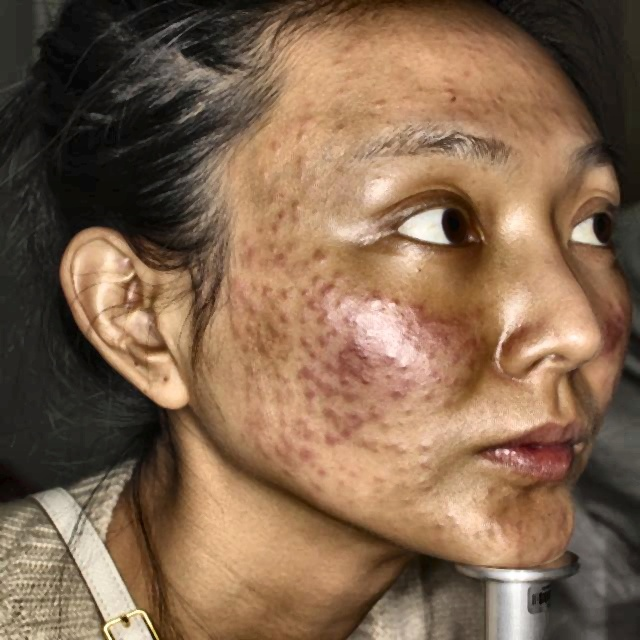nodule: (281, 113, 314, 153), (265, 204, 300, 241), (408, 295, 438, 337), (339, 358, 371, 392), (376, 371, 412, 401), (441, 80, 470, 116), (257, 246, 289, 276), (302, 364, 332, 392), (302, 300, 328, 332), (357, 431, 386, 458), (294, 332, 324, 357), (278, 435, 300, 469), (295, 440, 322, 466), (388, 439, 416, 463), (227, 295, 254, 316), (308, 478, 336, 498), (318, 330, 340, 354), (361, 328, 388, 347), (314, 461, 337, 483), (447, 372, 471, 393), (430, 331, 458, 349), (368, 470, 393, 490), (371, 96, 397, 115), (278, 311, 304, 330), (364, 289, 386, 311), (427, 368, 450, 389), (298, 386, 321, 407), (324, 283, 348, 303), (414, 387, 439, 406), (324, 271, 349, 290), (301, 278, 327, 296), (252, 167, 278, 185), (336, 312, 357, 334), (341, 387, 364, 407), (405, 339, 429, 358), (317, 427, 335, 452), (289, 199, 310, 220), (416, 456, 438, 476), (276, 283, 298, 303), (438, 394, 461, 413), (291, 156, 314, 174), (398, 402, 421, 420), (338, 340, 362, 357), (236, 241, 252, 266), (304, 248, 324, 268), (259, 289, 284, 305), (414, 436, 436, 454), (330, 411, 350, 430), (328, 55, 348, 74), (444, 350, 464, 369), (394, 358, 420, 372), (337, 426, 357, 444), (264, 140, 285, 157), (375, 351, 396, 368), (384, 294, 404, 310), (365, 406, 385, 422), (262, 309, 279, 327), (341, 43, 360, 59), (300, 426, 320, 441), (288, 417, 310, 430), (240, 319, 260, 333), (232, 268, 243, 293), (394, 340, 404, 363)
